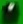black: (0, 0, 23, 24)
